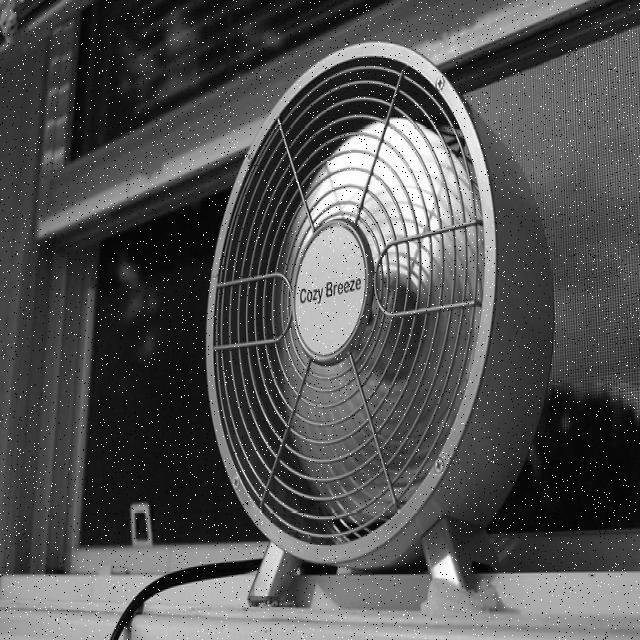fan: (207, 38, 557, 562)
